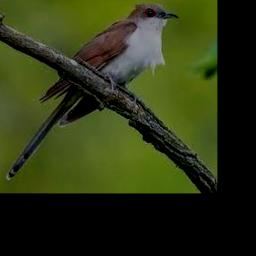Cuckoo: (6, 3, 178, 179)
